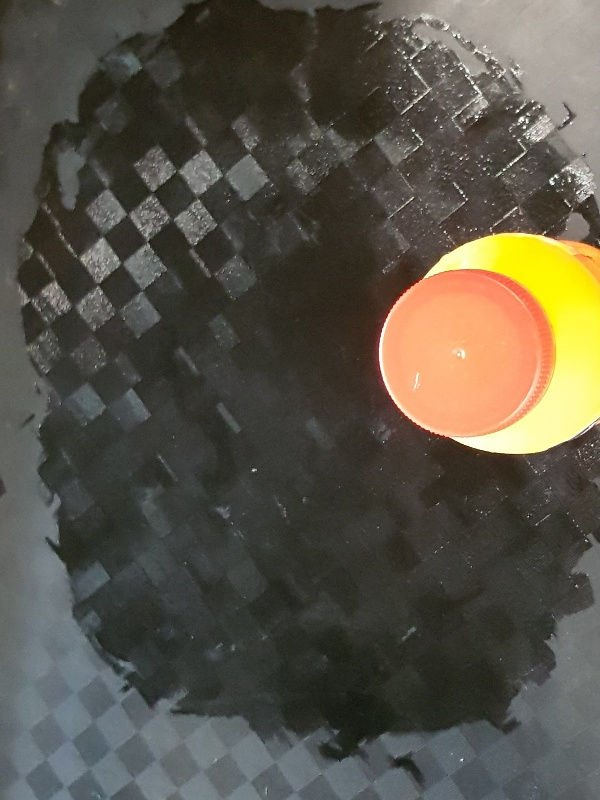Sunkist Orange Juice Drink: (373, 232, 600, 458)
